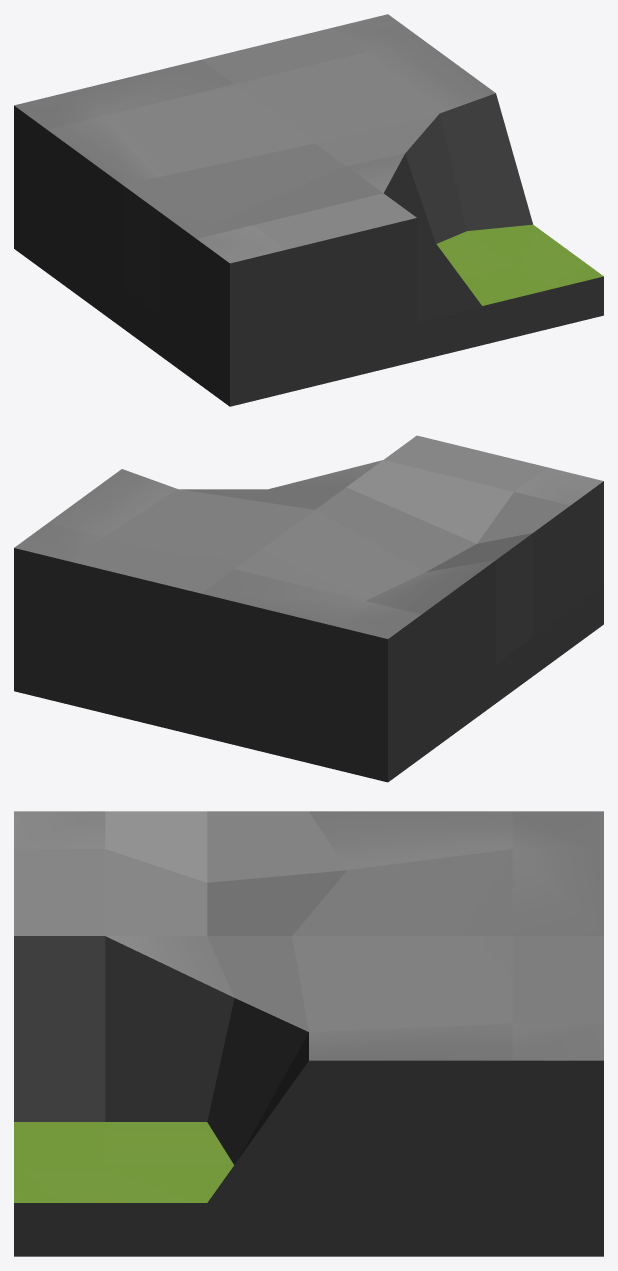
The model's file is rock_angle_2.fbx.
The picture shows the model from 3 angles, top to bottom: view 1: azimuth 30°, elevation 25°; view 2: azimuth 150°, elevation 25°; view 3: azimuth 270°, elevation 25°; orthographic projection. The views are drawn at different scales.
Parts seen in each view (by area): view 1: rock; view 2: rock; view 3: rock.
Part boxes in pixels (x1,y1,x2,y2): rock: (14, 14, 603, 406); rock: (14, 435, 603, 782); rock: (14, 811, 603, 1256).
Bounding box in the file's own units: 200 × 200 × 73.23.
1 material, 1 textured.
